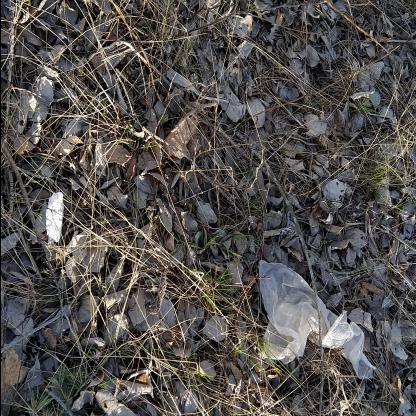kopuk: (44, 191, 64, 243)
plastik: (256, 257, 374, 381)
